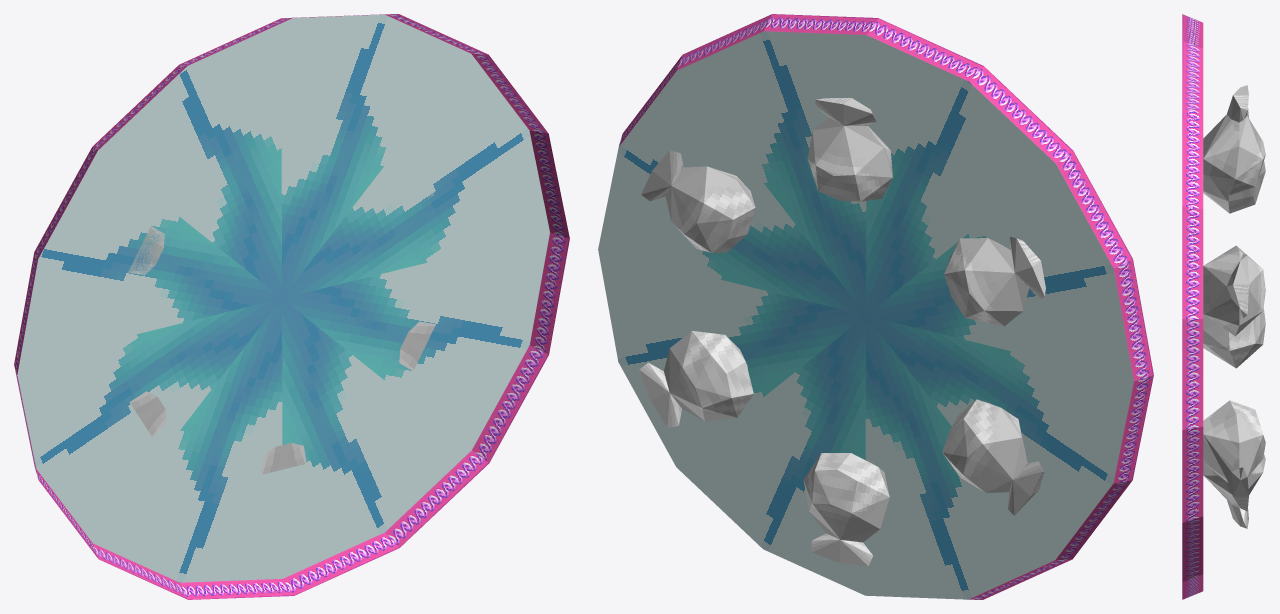
Rendered from ShellCup_Low_Poly.dae.
The picture shows the model from 3 angles, left to right: view 1: azimuth 30°, elevation 25°; view 2: azimuth 150°, elevation 25°; view 3: azimuth 270°, elevation 25°; orthographic projection. The views are drawn at different scales.
Visible parts, largest first — view 1: n1b1_005; view 2: n1b1_005; view 3: n1b1_005.
Part boxes in pixels (x1,y1,x2,y2): n1b1_005: [14, 14, 569, 599]; n1b1_005: [598, 14, 1153, 599]; n1b1_005: [1182, 14, 1265, 599].
Size of the model in its own units: 9.63 by 1.37 by 9.63.
4 materials, 3 textured.
